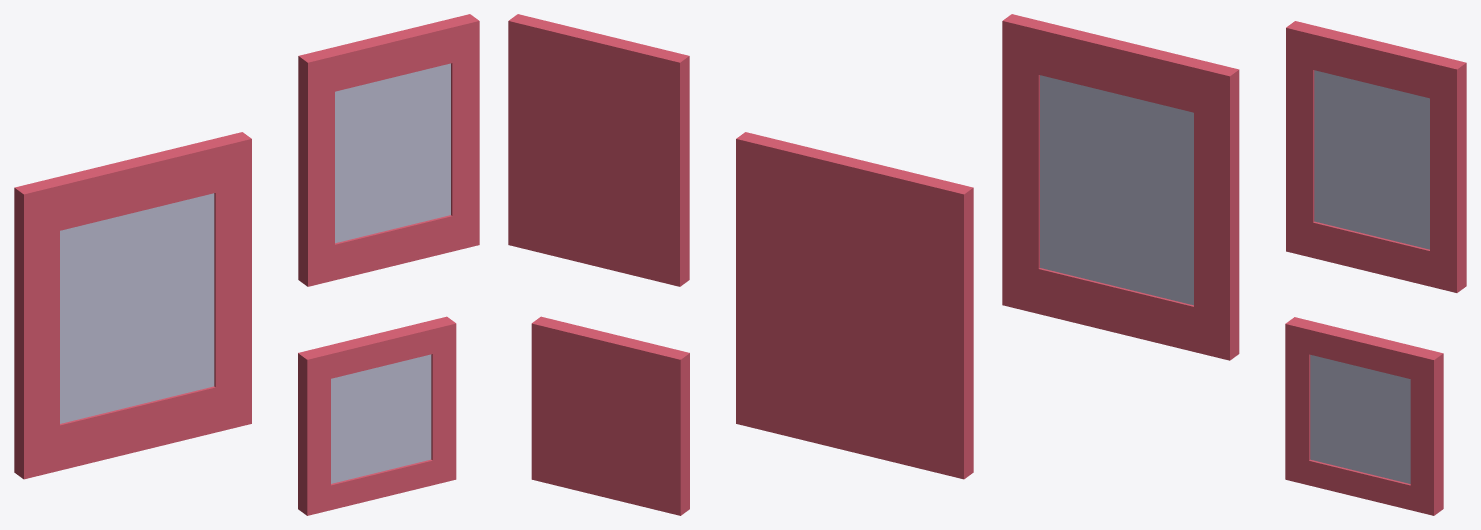
Rendered from pictureFrames.fbx.
3 renders of one model, left to right at view 1: azimuth 30°, elevation 25°; view 2: azimuth 150°, elevation 25°; view 3: azimuth 330°, elevation 25°, orthographic.
Parts seen in each view (by area): view 1: Picture Frames; view 2: Picture Frames; view 3: Picture Frames.
Part boxes in pixels (x1,y1,x2,y2): Picture Frames: [14, 14, 479, 515]; Picture Frames: [508, 14, 973, 515]; Picture Frames: [1002, 14, 1466, 515].
Size of the model in its own units: 129 by 4.63 by 123.
